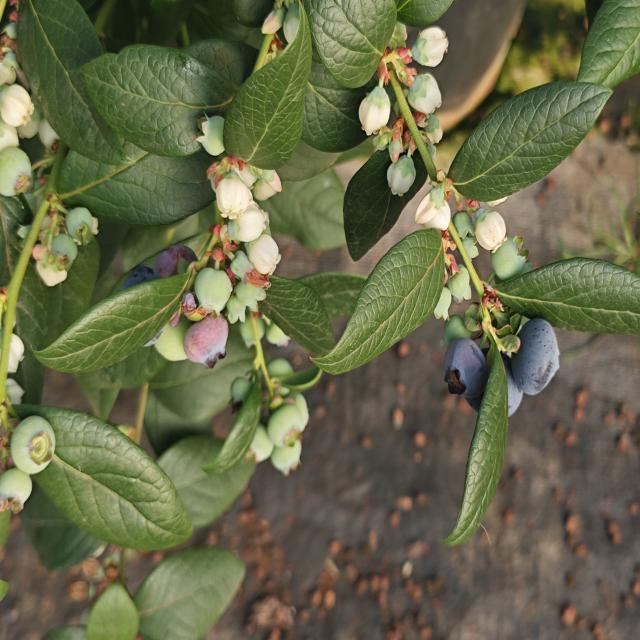ripe: (111, 238, 201, 317), (462, 348, 526, 428), (507, 316, 562, 400), (440, 335, 490, 413)
